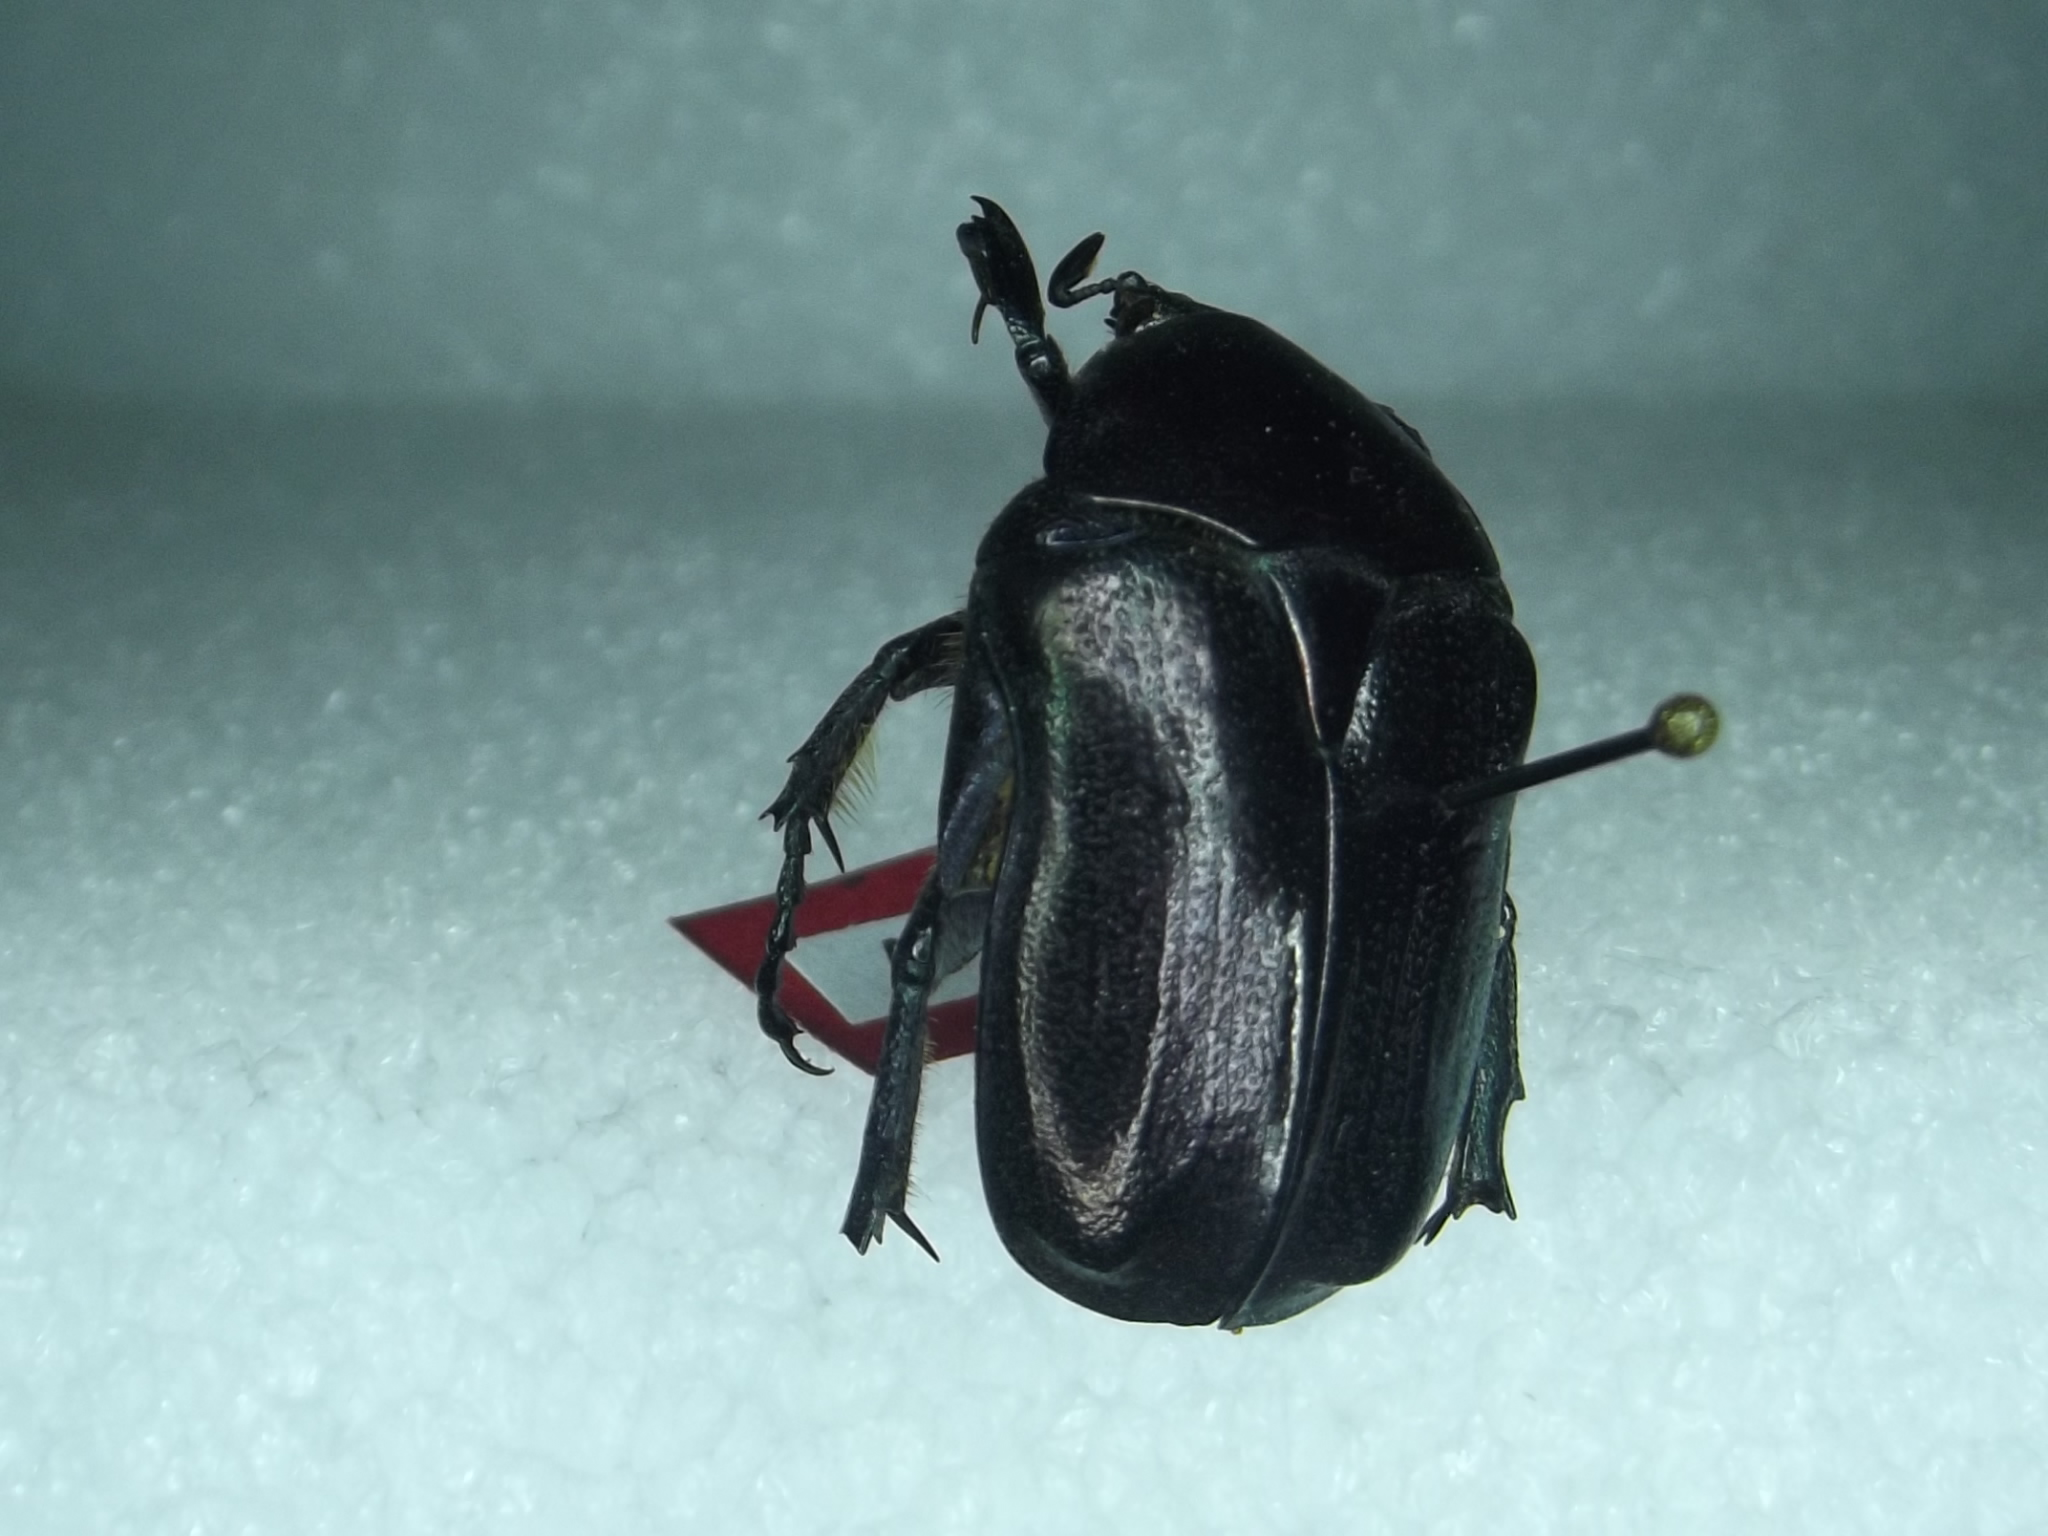Protaetia_besucheti: (714, 174, 1559, 1350)
